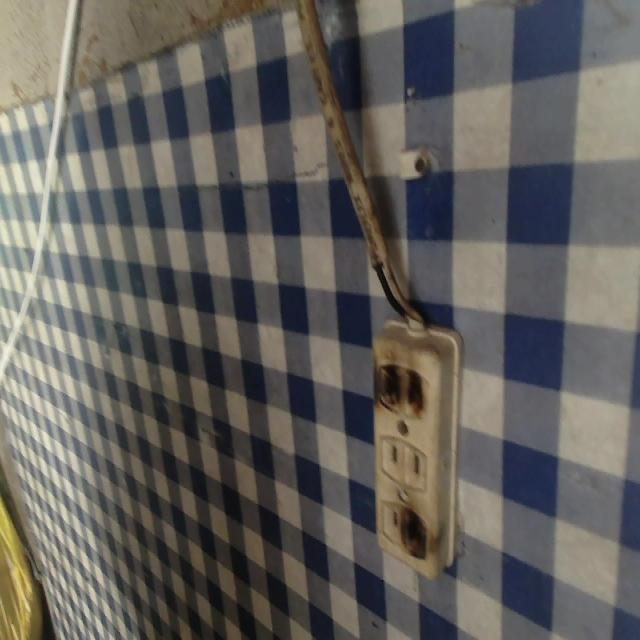-: (370, 359, 429, 417), (398, 503, 429, 561)
